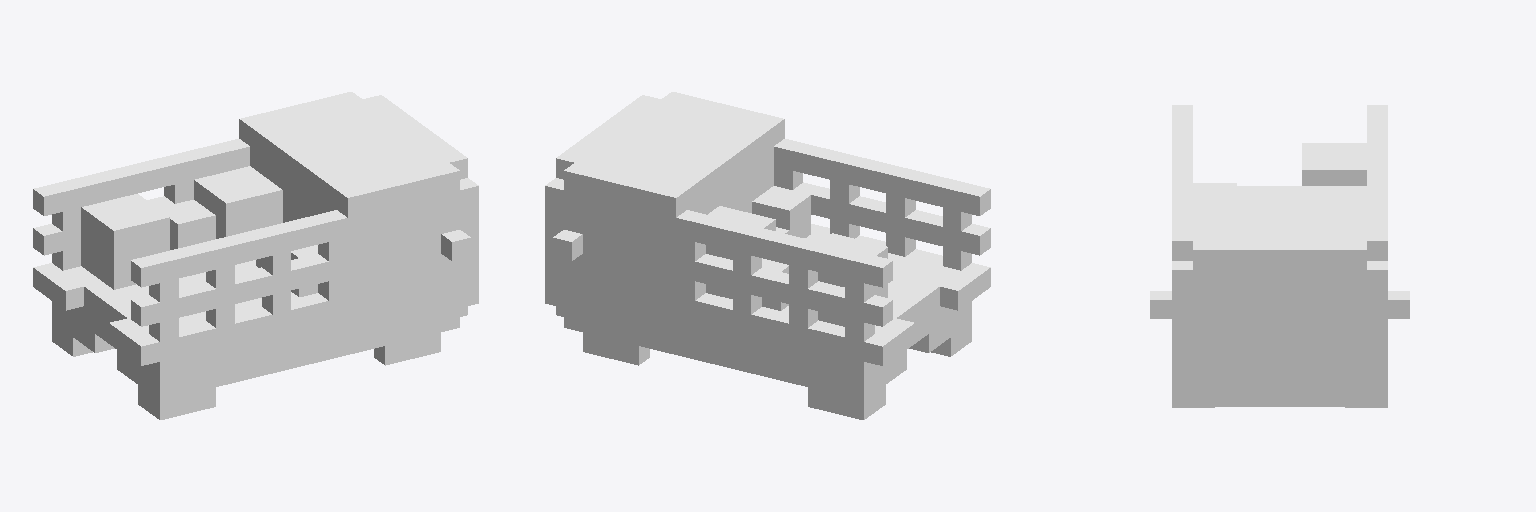
File: BlueTruck.obj
3 views of the same model, side by side, from view 1: azimuth 30°, elevation 25°; view 2: azimuth 150°, elevation 25°; view 3: azimuth 270°, elevation 25° (orthographic).
Size of the model in its own units: 18 by 9 by 12.